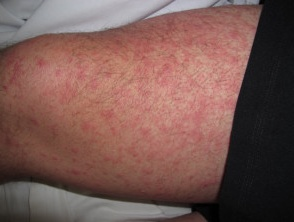SJS-TEN: (0, 0, 271, 215)
